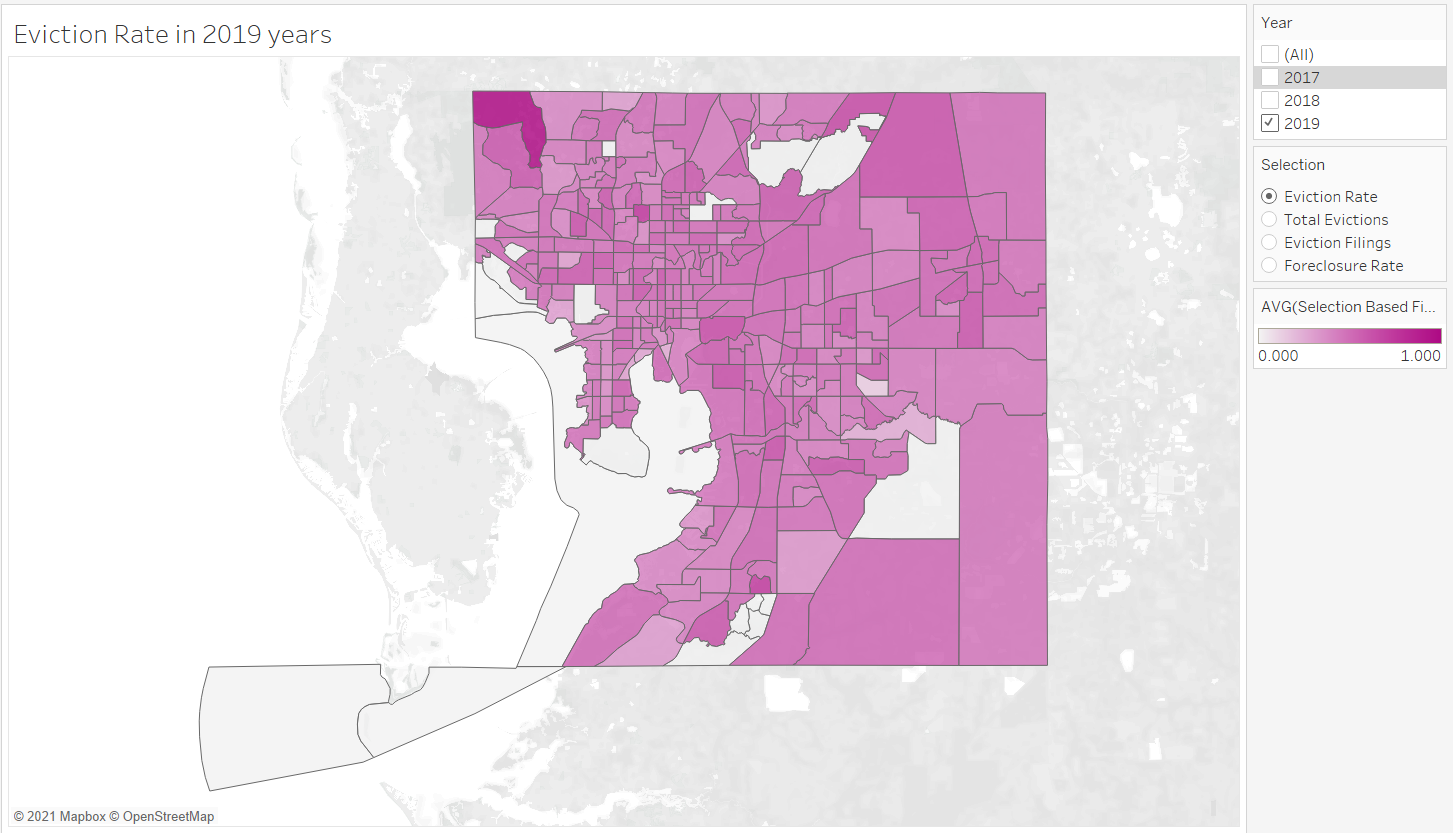

The dashboard page shown, as its layout file describes it:
{"tool":"tableau","page":{"name":"Dashboard 1","canvas":[1000,800],"ordinal":0},"visuals":[{"type":"worksheet","title":"Sheet 1","mark":"Automatic","box":[8,8,824,784]},{"type":"filter","title":"Sheet 1","param":"[federated.1u06c7t0c6f6l11f5u7dw1ax6dv7].[none:year:ok]","box":[832,8,160,128]},{"type":"legend","title":"Sheet 1","param":"[federated.1u06c7t0c6f6l11f5u7dw1ax6dv7].[avg:Calculation_1171498872285696004:qk","box":[832,136,160,51]},{"type":"parameter","param":"[Parameters].[Parameter 1]","box":[832,187,160,128]}]}

Visuals, with their boxes on the page's 1000x800 design canvas (x1, y1, x2, y2). These are canvas units, not pixel positions in the 1453x833 screenshot, which may show the page scaled, cropped or inside an application window:
"Sheet 1" worksheet: [8,8,832,792]
"Sheet 1" filter: [832,8,992,136]
"Sheet 1" legend: [832,136,992,187]
parameter: [832,187,992,315]
